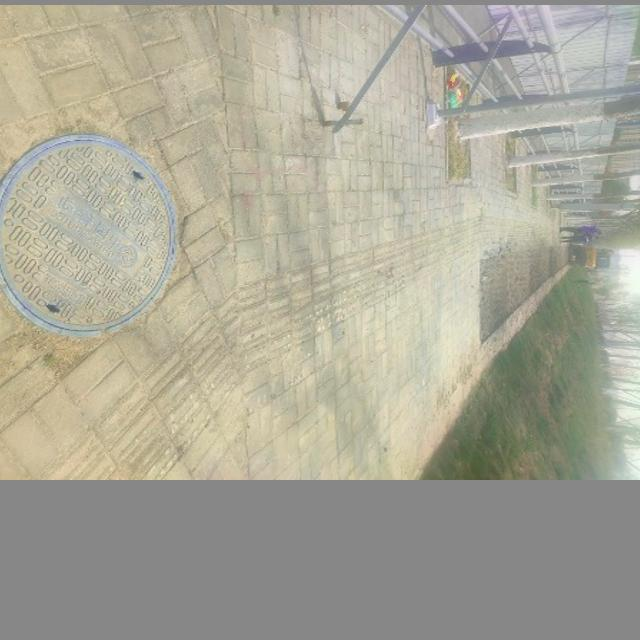good: (0, 133, 177, 337)
